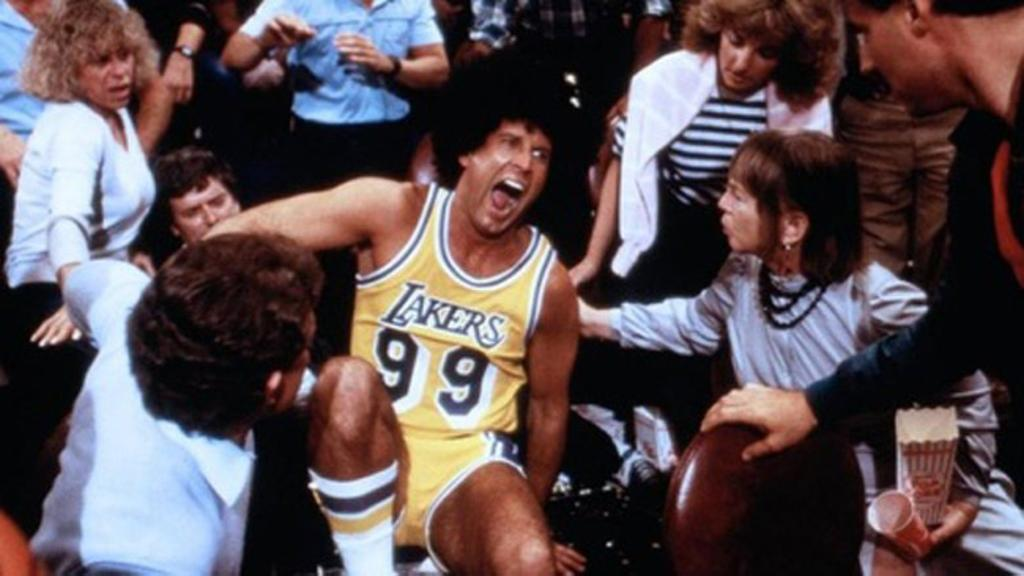face: (853, 1, 945, 114), (470, 122, 552, 236), (714, 12, 774, 96), (710, 172, 772, 252), (178, 176, 236, 248), (84, 30, 138, 104)
